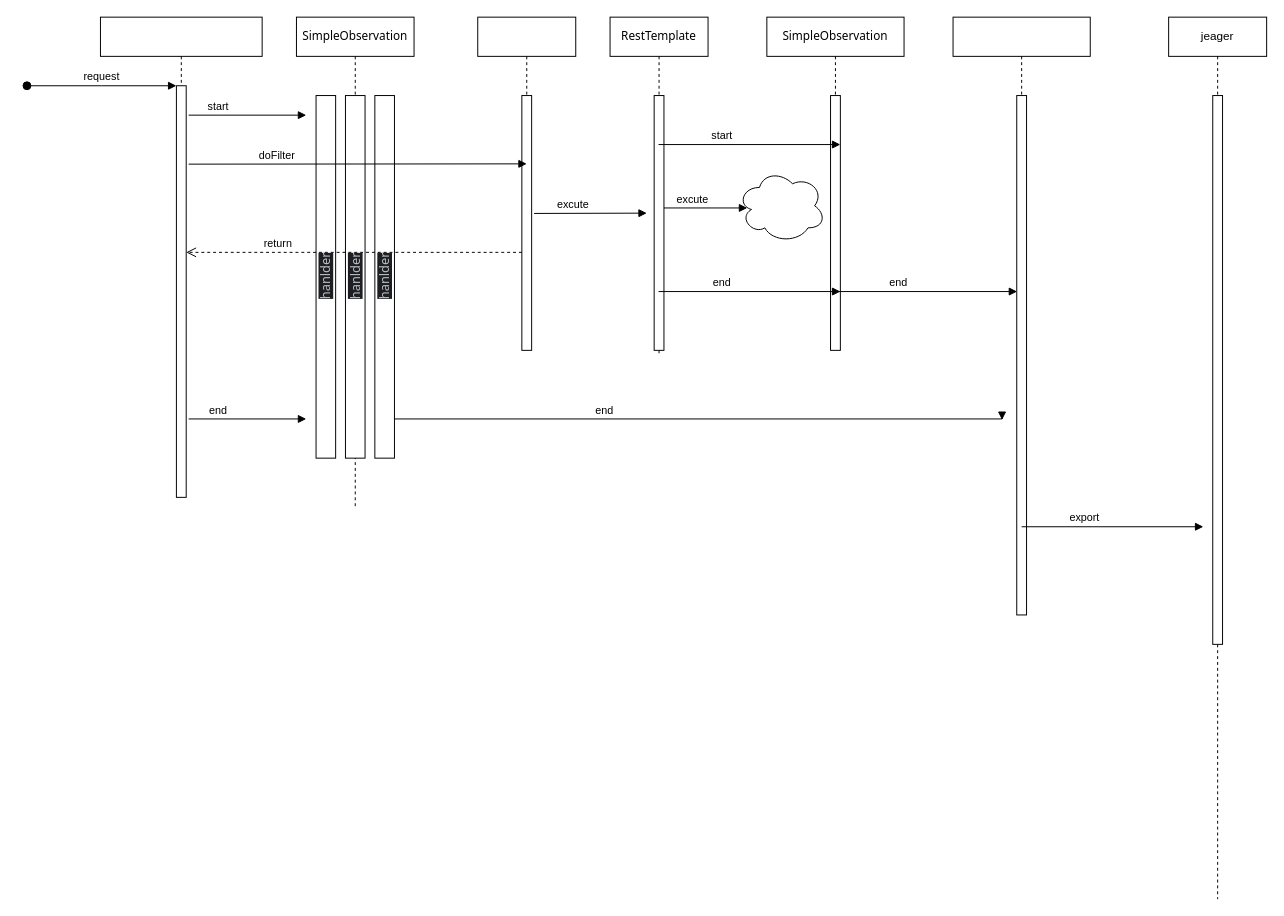
This 1284x916 diagram has some shape labels left out. Each missing label, with the box of its shape:
Controller: (477, 16, 576, 350)
OtlpHttpSpanExporter: (952, 16, 1090, 615)
server: (736, 168, 826, 243)
ServerHttpObservationFilter: (99, 16, 262, 497)
